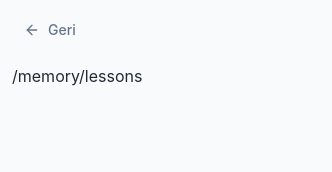
Test case: PageBackButton › returns to the previous page when navigated within the app
This screenshot has width=332, height=172.
Click the button "Geri": (50, 30) [12,12,88,48]
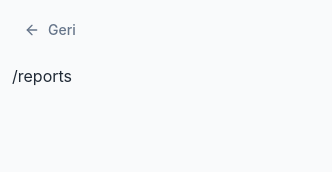
Expected: the text with test id "path" reads "/reports", [12,66,72,86]
